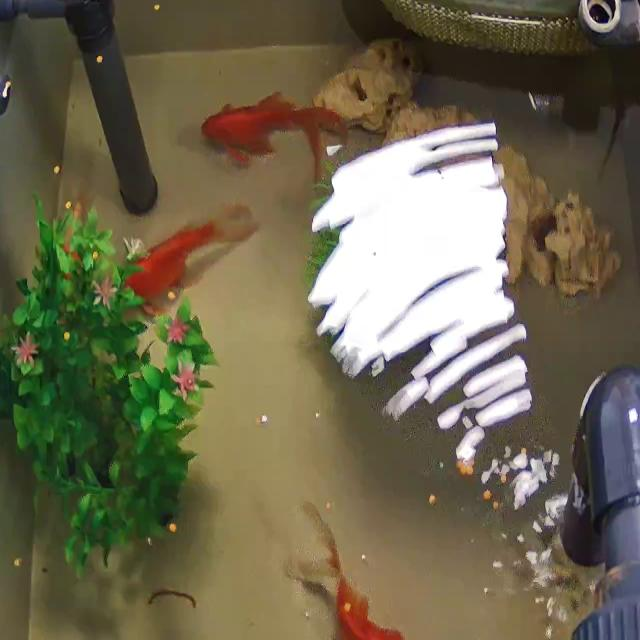fish: (282, 498, 424, 640), (121, 205, 254, 313), (207, 94, 341, 182)
